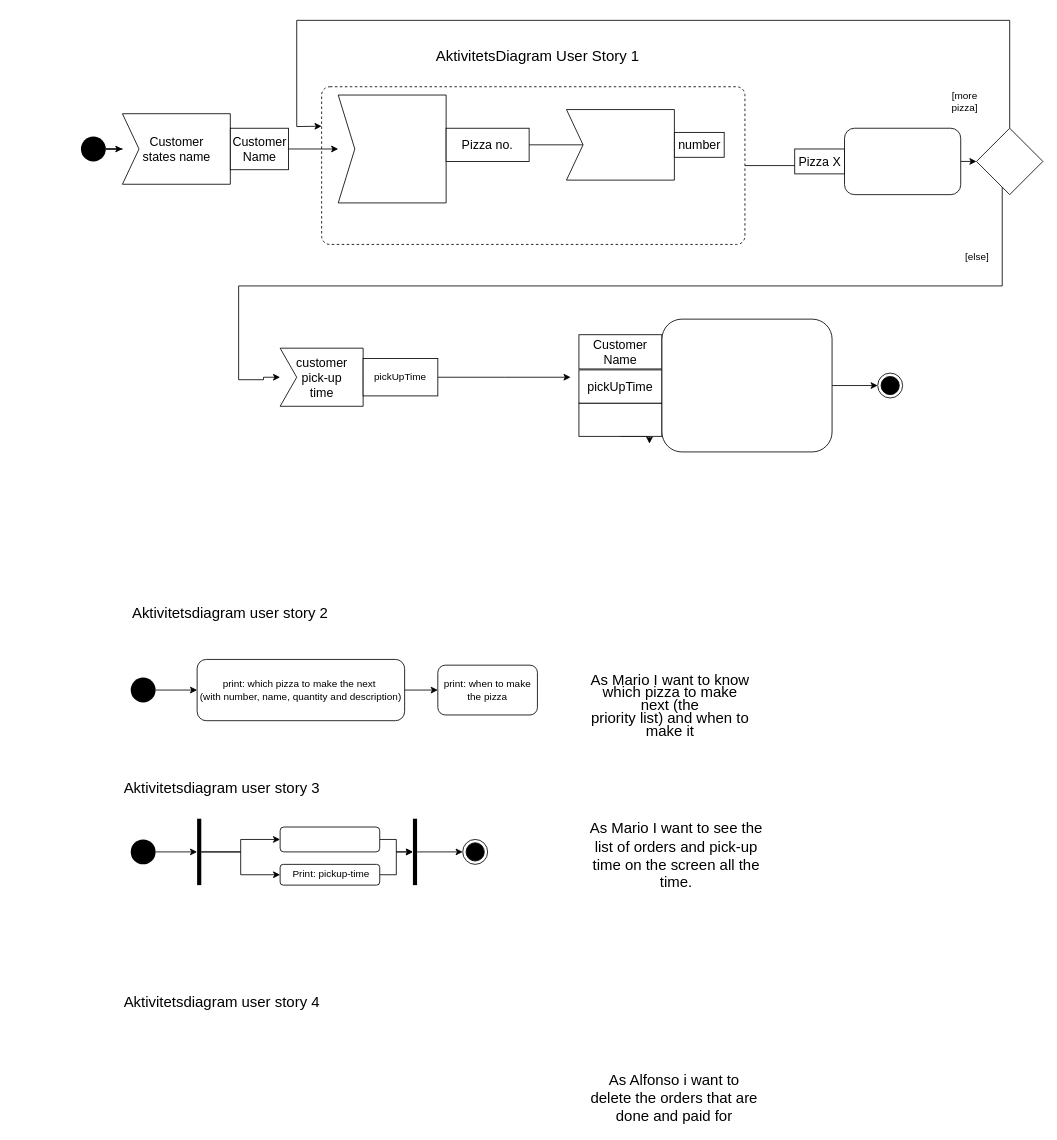
Image size: 1057x1140. Some labels were removed from this diagram. Here are the shapes that lost their labels. From the top down, the centre of each, then its label:
the point at 391,148: Customer orders pizza
the point at 620,144: Customer chooses pizza count
the point at 902,161: add Pizza to PizzaList
the point at 746,385: Add Customer-order to Order-list
the point at 620,419: PizzaList
the point at 329,839: Print: list of orders
